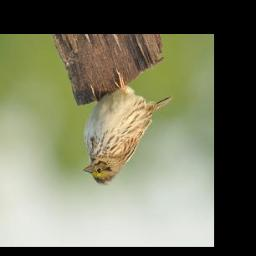Sparrow: (79, 70, 172, 187)
